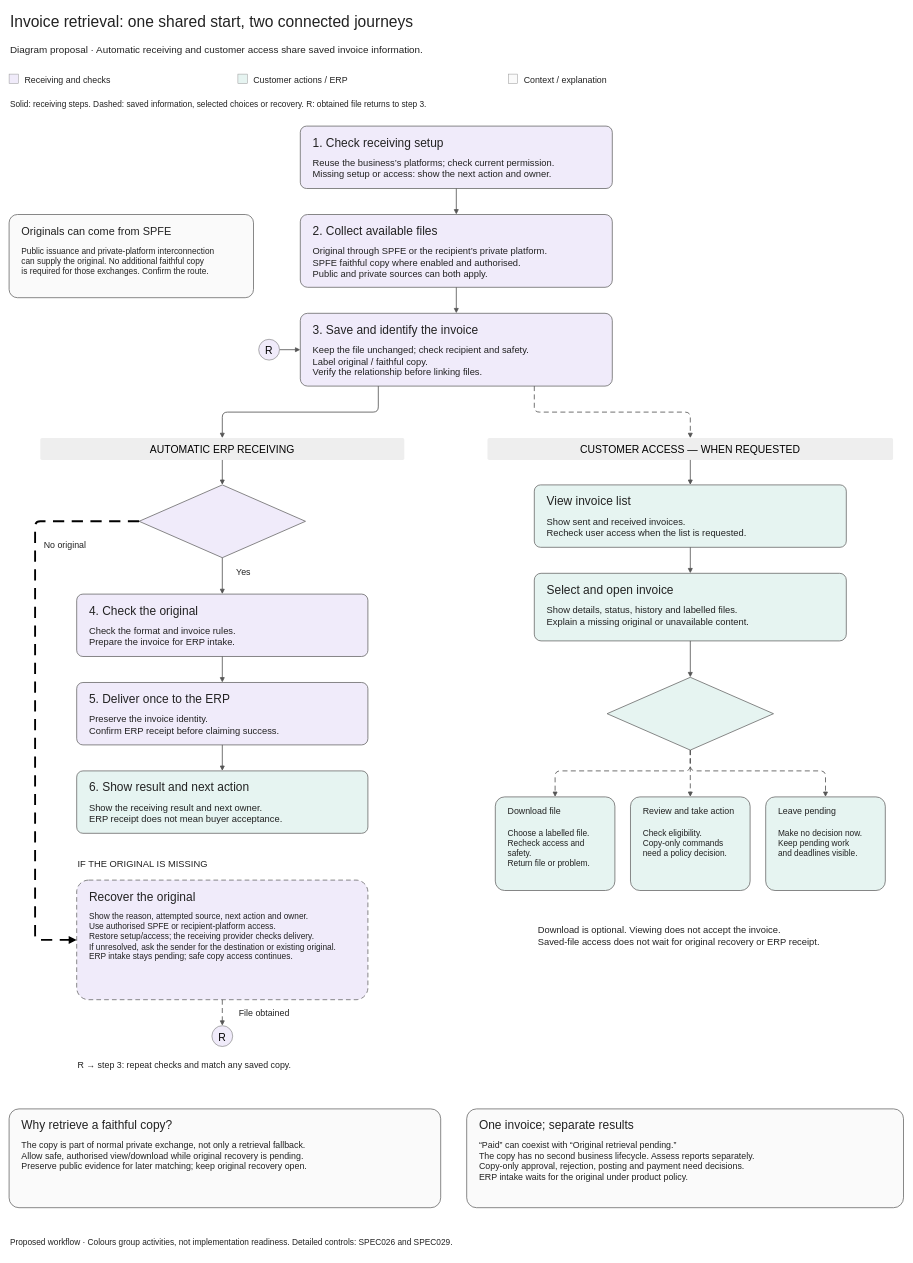
Some shapes in this 913 by 1263 pixel diagram are drawn without their labels. Each missing label, with the centre of its shape:
"Choose the next action" belongs at (x=690, y=713).
"Original available?" belongs at (x=222, y=521).
